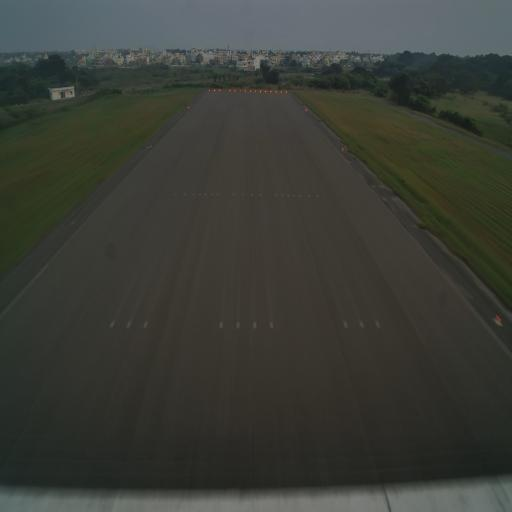off: (124, 318, 132, 331), (358, 317, 365, 330), (218, 319, 225, 331), (373, 319, 381, 329), (268, 319, 274, 332), (143, 319, 150, 330), (342, 318, 349, 329), (110, 319, 116, 331), (234, 320, 240, 330), (252, 319, 257, 330), (315, 193, 320, 199), (174, 191, 178, 198), (286, 191, 290, 198), (198, 190, 201, 198), (210, 191, 214, 197), (232, 191, 236, 197), (307, 193, 311, 199), (183, 191, 186, 198), (192, 191, 195, 198), (250, 192, 253, 199), (281, 192, 284, 199), (298, 193, 302, 198), (204, 191, 207, 197), (216, 192, 219, 198), (241, 192, 244, 198), (275, 192, 278, 198), (293, 193, 296, 199), (149, 145, 153, 149), (260, 192, 262, 198)
on: (495, 312, 503, 327), (341, 145, 345, 152)
